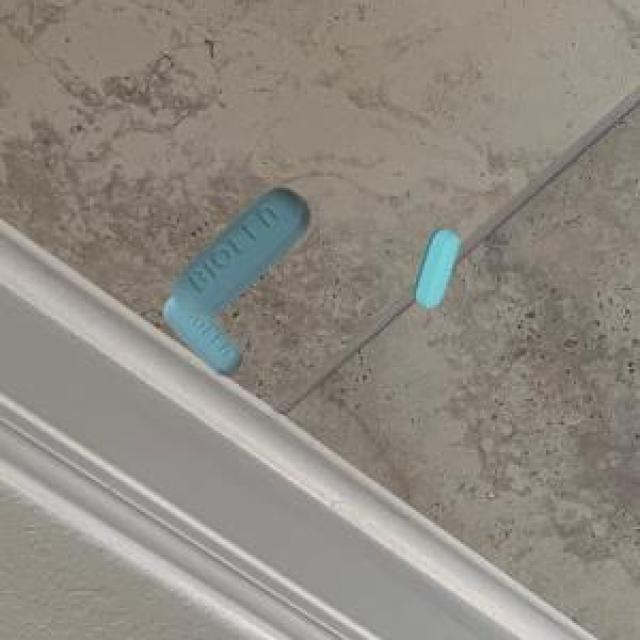Bioflu: (147, 170, 325, 376), (401, 214, 469, 322)
